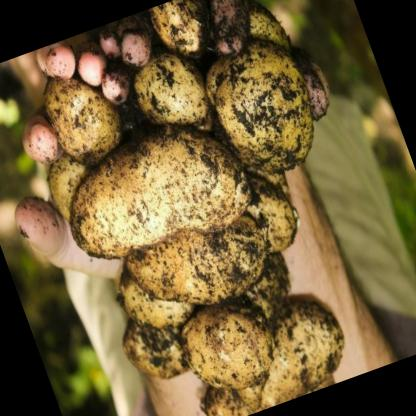potato: (46, 103, 261, 279), (190, 21, 334, 190), (177, 284, 359, 416), (114, 190, 282, 330), (170, 287, 286, 407), (30, 51, 135, 178), (121, 38, 221, 154), (145, 0, 224, 67)
